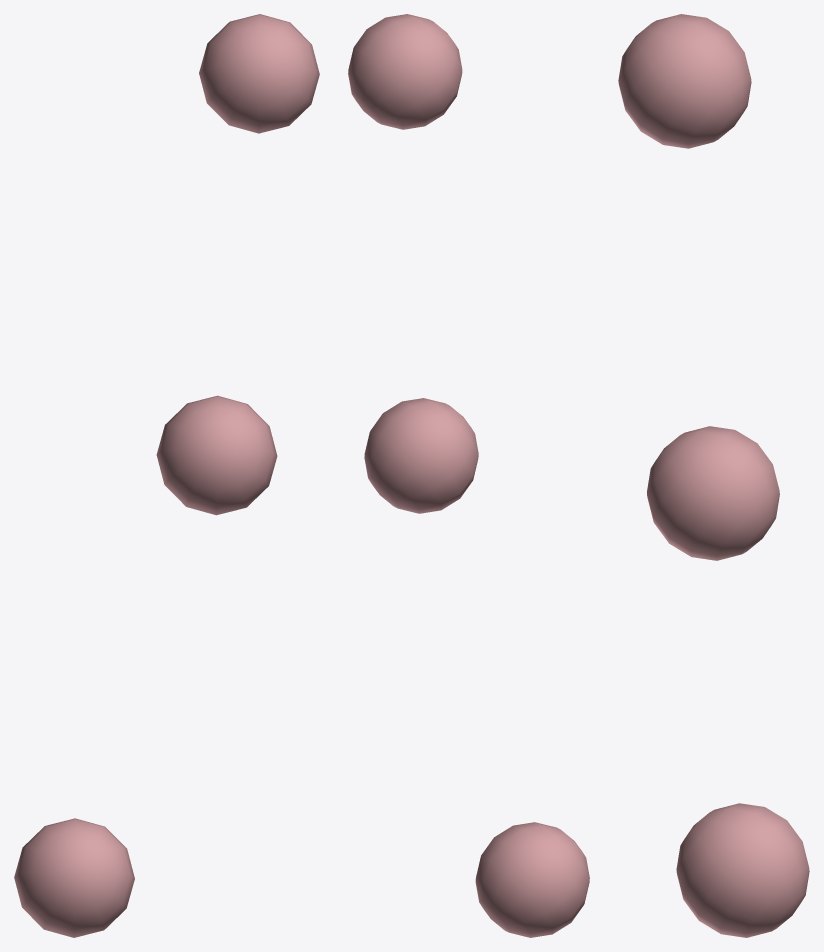
3 renders of one model, left to right at view 1: azimuth 30°, elevation 25°; view 2: azimuth 150°, elevation 25°; view 3: azimuth 270°, elevation 25°, orthographic. The views are drawn at different scales.
Visible parts, largest first — view 1: ZA_49793cb4ae1334e3; view 2: ZA_49793cb4ae1334e3; view 3: ZA_49793cb4ae1334e3.
Part boxes in pixels (x1=…): ZA_49793cb4ae1334e3: x1=14, y1=14, x2=319, y2=937; ZA_49793cb4ae1334e3: x1=348, y1=14, x2=589, y2=937; ZA_49793cb4ae1334e3: x1=618, y1=14, x2=809, y2=937.
Bounding box in the file's own units: 0.0065 × 0.0212 × 0.00368.
